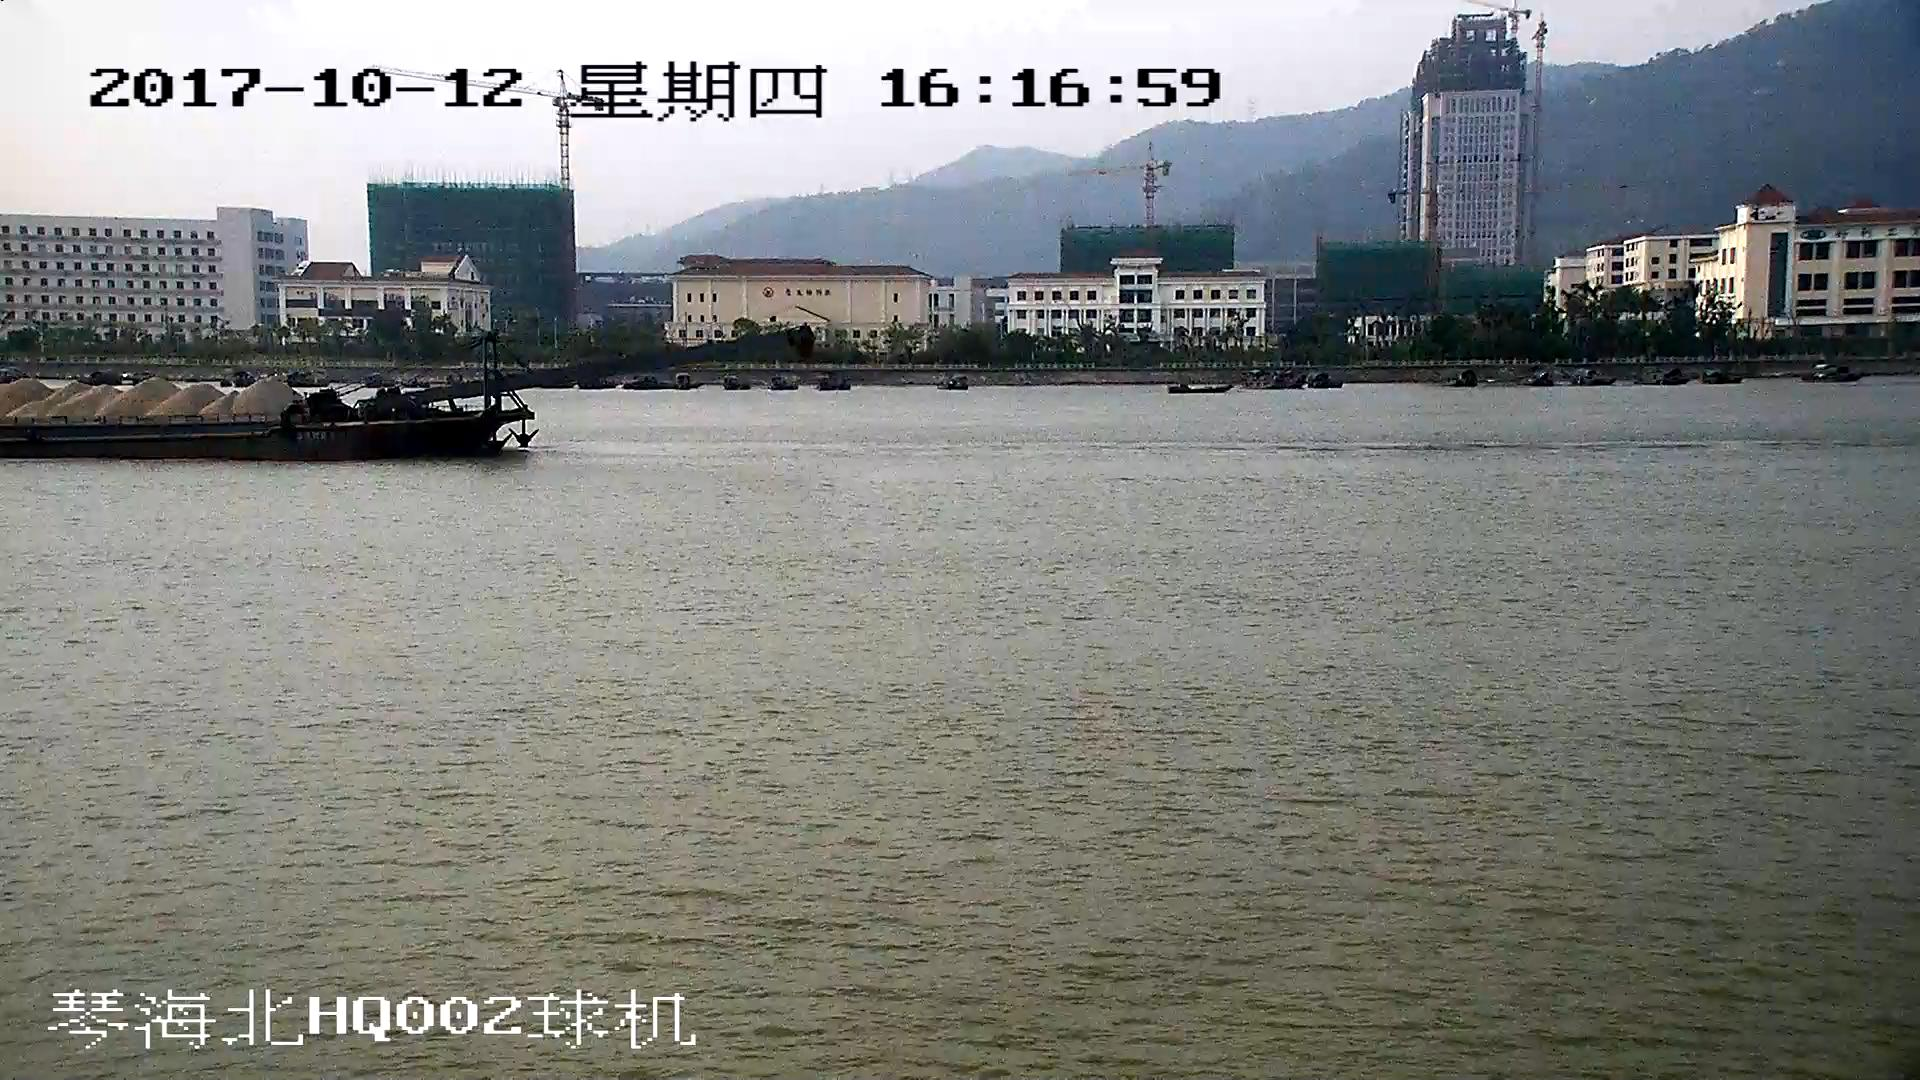ore carrier: (1, 326, 807, 462)
